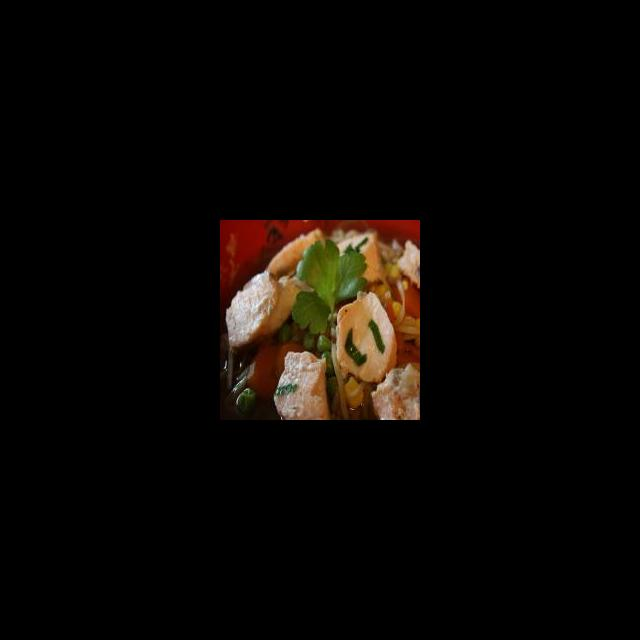ca hoi: (225, 253, 324, 336), (335, 291, 398, 383), (267, 345, 342, 420), (370, 356, 420, 420)
